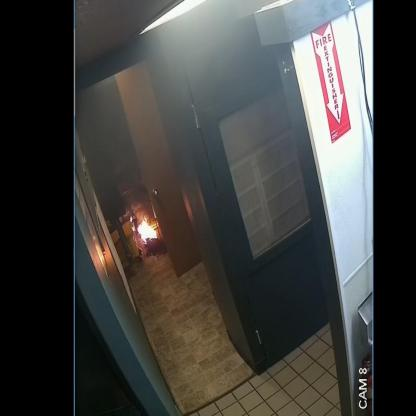fire: (137, 216, 157, 245)
